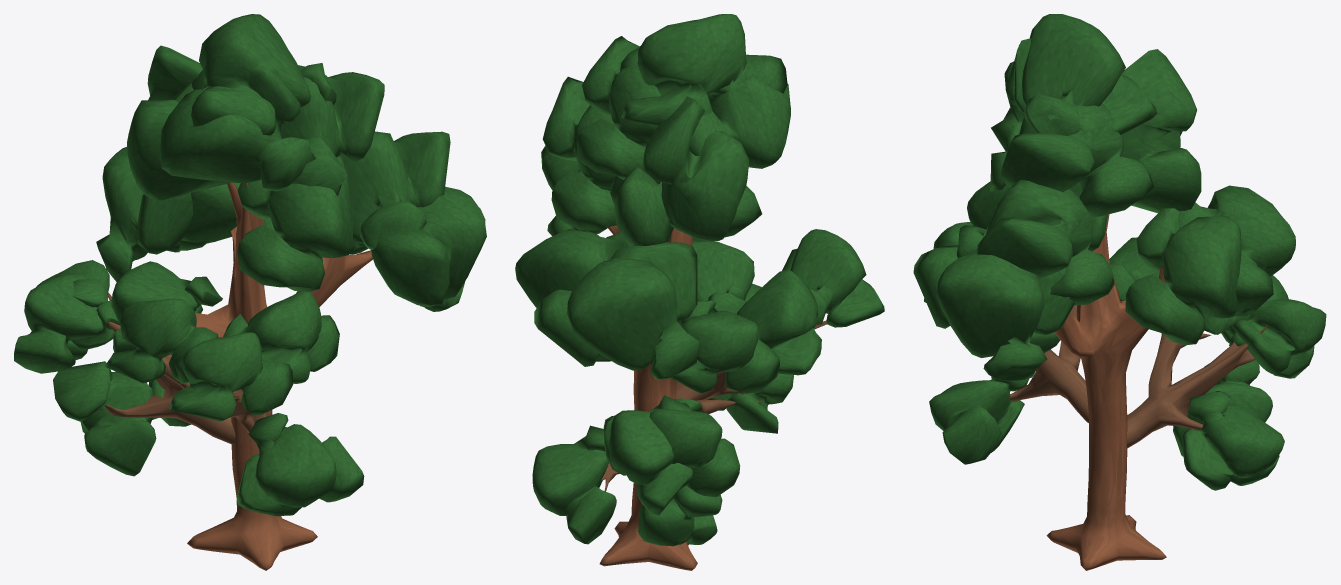
File: tree7.fbx
The picture shows the model from 3 angles, left to right: view 1: azimuth 30°, elevation 25°; view 2: azimuth 150°, elevation 25°; view 3: azimuth 270°, elevation 25°; orthographic projection. The views are drawn at different scales.
Visible parts, largest first — view 1: pasted__pCube40; view 2: pasted__pCube40; view 3: pasted__pCube40.
Part boxes in pixels (x1,y1,x2,y2): pasted__pCube40: [14, 14, 486, 570]; pasted__pCube40: [515, 14, 884, 570]; pasted__pCube40: [913, 14, 1326, 570].
Bounding box in the file's own units: 13.28 × 21.33 × 15.5.
